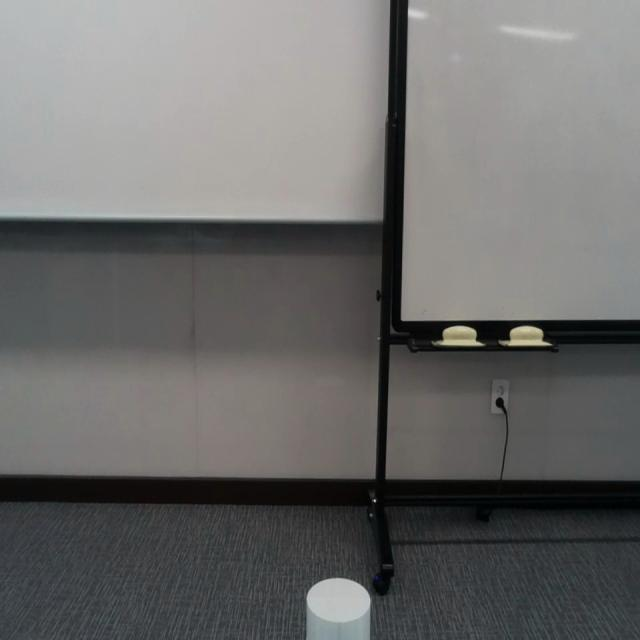cylinder: (305, 577, 371, 639)
